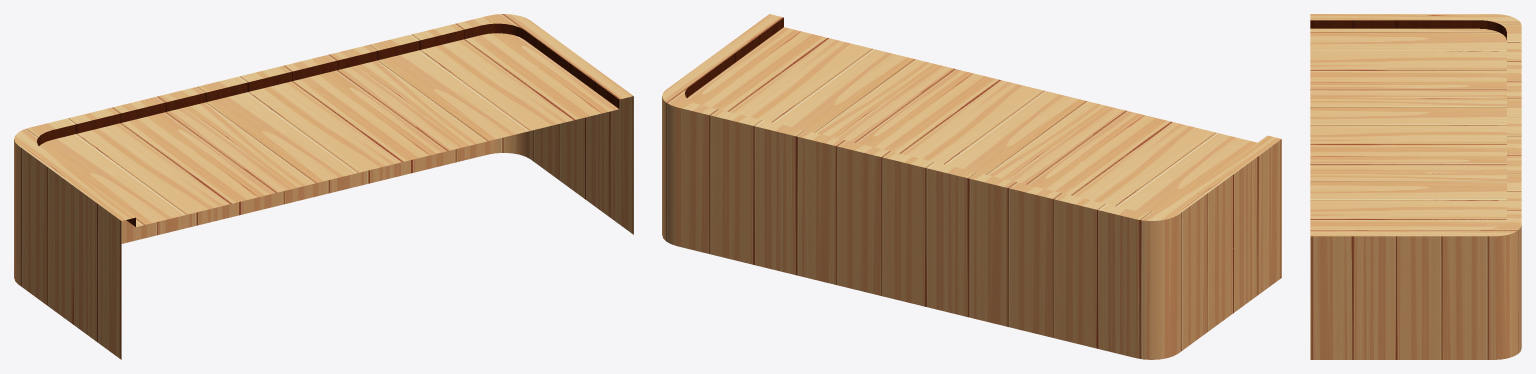
File: serve_table.fbx
The picture shows the model from 3 angles, left to right: view 1: azimuth 30°, elevation 25°; view 2: azimuth 150°, elevation 25°; view 3: azimuth 270°, elevation 25°; orthographic projection. The views are drawn at different scales.
Parts seen in each view (by area): view 1: table_3; view 2: table_3; view 3: table_3.
Boxes of the visible parts, x1,y1,x2,y2 form: table_3: (14,14,633,359); table_3: (662,14,1281,359); table_3: (1310,14,1521,359).
Bounding box in the file's own units: 13.3 × 3.44 × 5.34.
